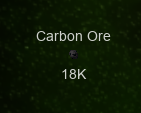Carbon: (36, 30, 112, 81)
